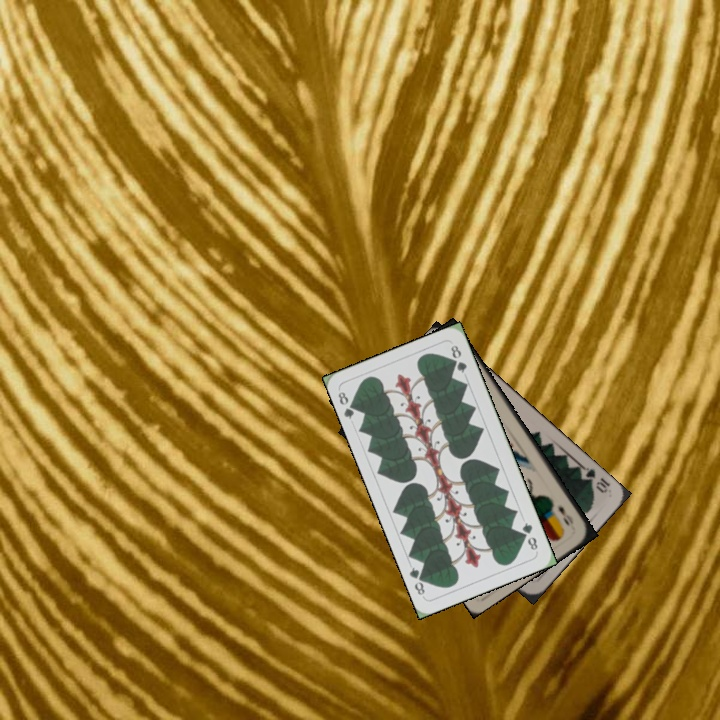EO: (554, 502, 576, 529)
G10: (576, 463, 613, 496)
G8: (334, 387, 360, 422), (518, 518, 540, 553)
